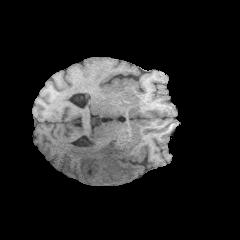glioma: (58, 138, 141, 182)
